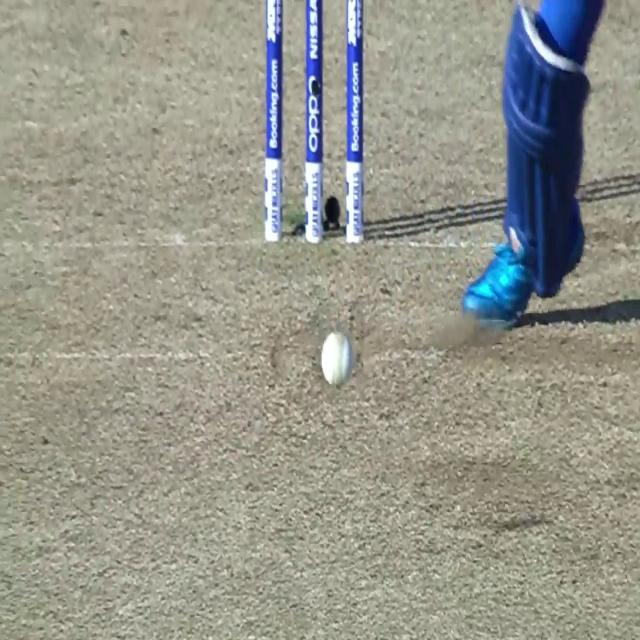ball: (322, 330, 352, 386)
